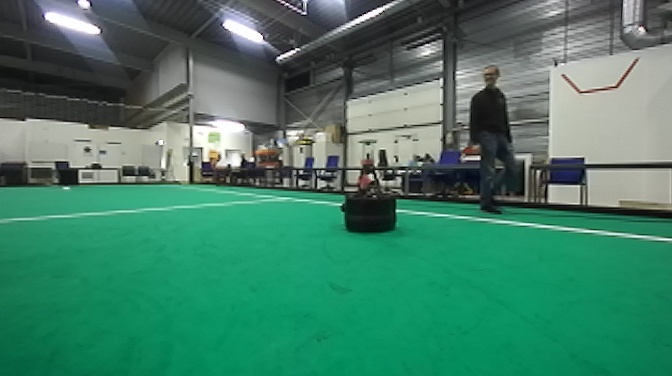human: (464, 63, 518, 217)
robot: (340, 136, 400, 238)
